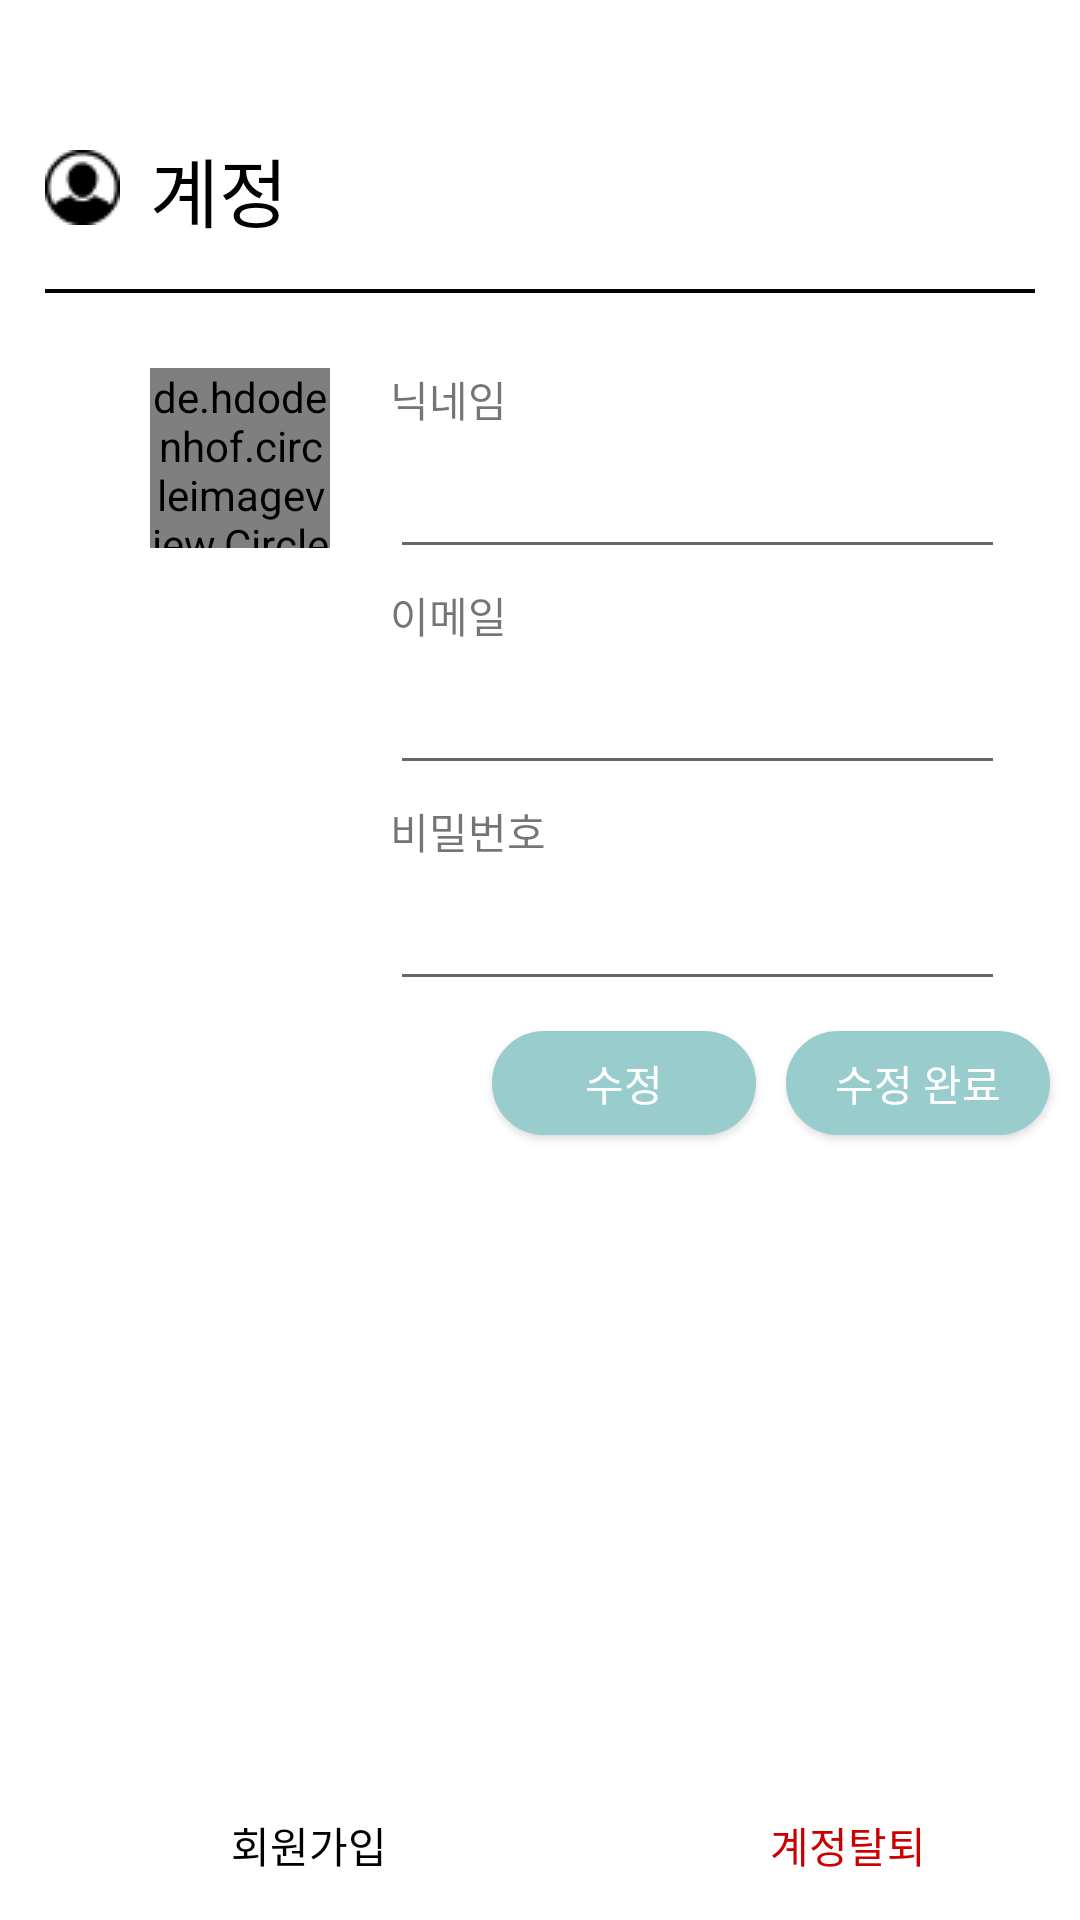

Where icons sit on this 1080×1920 app screen, as (x1, y1, x2, y2):
account: (45, 150, 120, 225)
